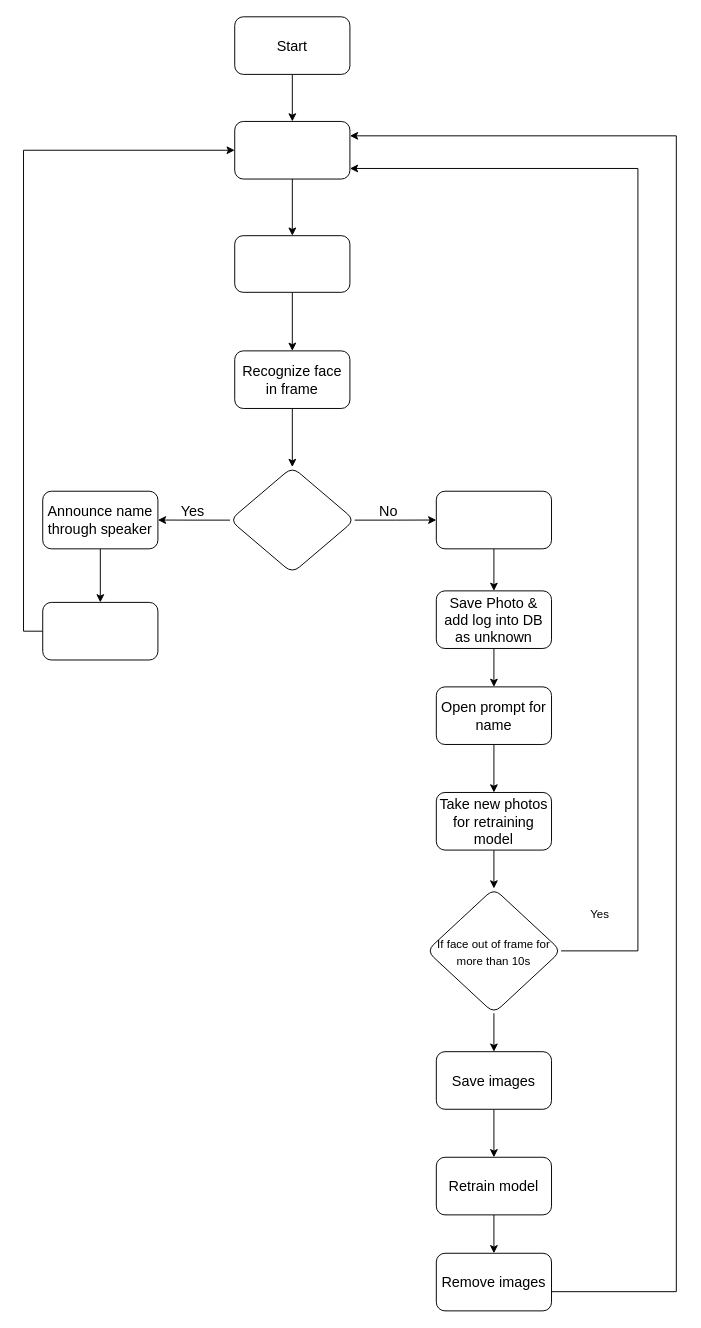
Some shapes in this 701 by 1328 pixel diagram are drawn without their labels. Each missing label, with the box of its shape:
Announce as unknown: (435, 490, 552, 549)
If recognized?: (229, 466, 355, 573)
Open Camera: (234, 120, 350, 179)
Save Photo & add log into DB: (42, 601, 158, 660)
Start face detection: (234, 235, 350, 292)
